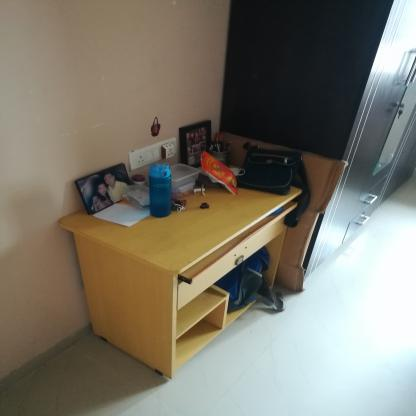hot_and_sweet: (202, 151, 238, 196)
